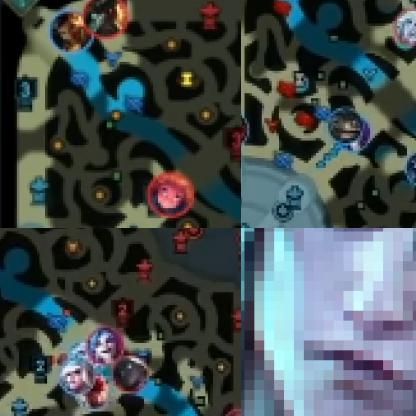Akshan: (49, 12, 94, 53)
Gangplank: (83, 0, 129, 39)
Graves: (241, 113, 251, 148)
Janna: (58, 359, 96, 395)
Jinx: (87, 327, 126, 366), (340, 119, 372, 152)
Lee Sin: (74, 374, 112, 410)
Senna: (112, 354, 151, 394)
Tahm Kench: (329, 108, 363, 143)
Viego: (241, 228, 415, 415), (393, 6, 415, 46)
Volibear: (407, 150, 415, 187)
Zoe: (147, 171, 197, 218)
